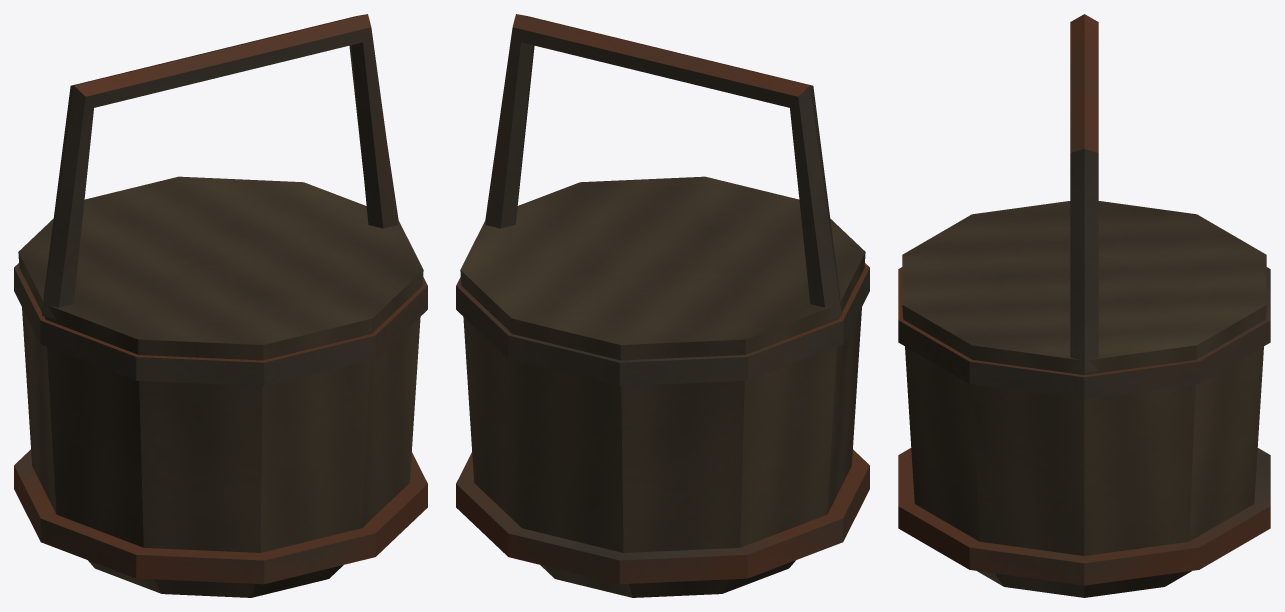
File: Bucket.glb
The picture shows the model from 3 angles, left to right: view 1: azimuth 30°, elevation 25°; view 2: azimuth 150°, elevation 25°; view 3: azimuth 270°, elevation 25°; orthographic projection. The views are drawn at different scales.
Parts seen in each view (by area): view 1: Bucket; view 2: Bucket; view 3: Bucket.
Boxes of the visible parts, x1,y1,x2,y2 form: Bucket: [14, 14, 427, 597]; Bucket: [456, 14, 869, 597]; Bucket: [898, 14, 1270, 597].
Bounding box in the file's own units: 0.286 × 0.37 × 0.272.
Materials: 2 (2 with a texture image).
